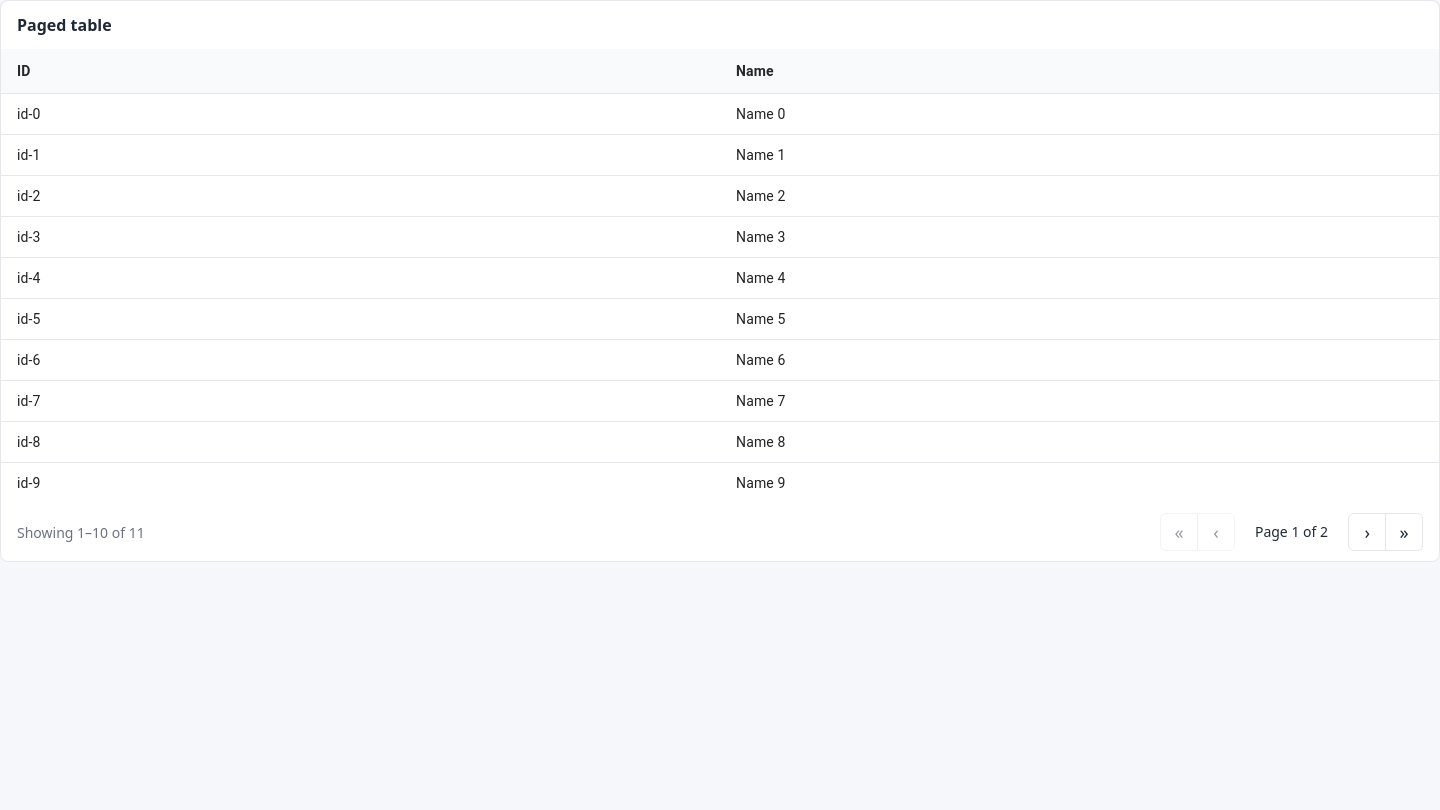
Test: DataTable › shows pagination and pages of 10 when total exceeds 10
The image size is (1440, 810).
Expected: the navigation bar named "Paged table" is shown, [0,503,1439,562]
Expected: the text "id-0" is shown, [1,94,720,134]
Click the button named "Next page" at (1367, 532), box [1348,513,1386,551]
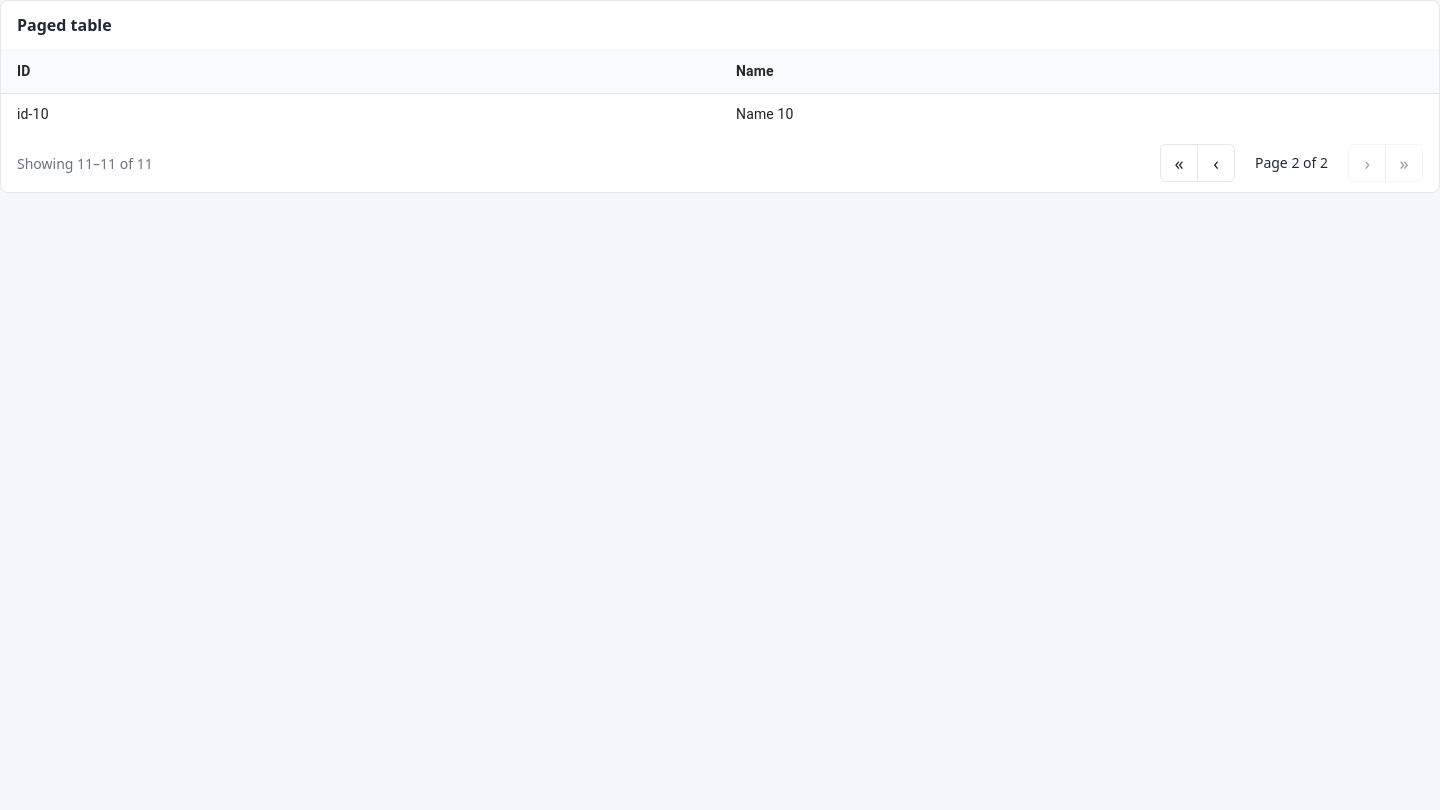
Expected: the text "id-10" is shown, [1,94,720,134]
Expected: the text "id-0" is gone
